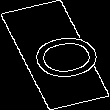O_E: (8, 27, 102, 83)
